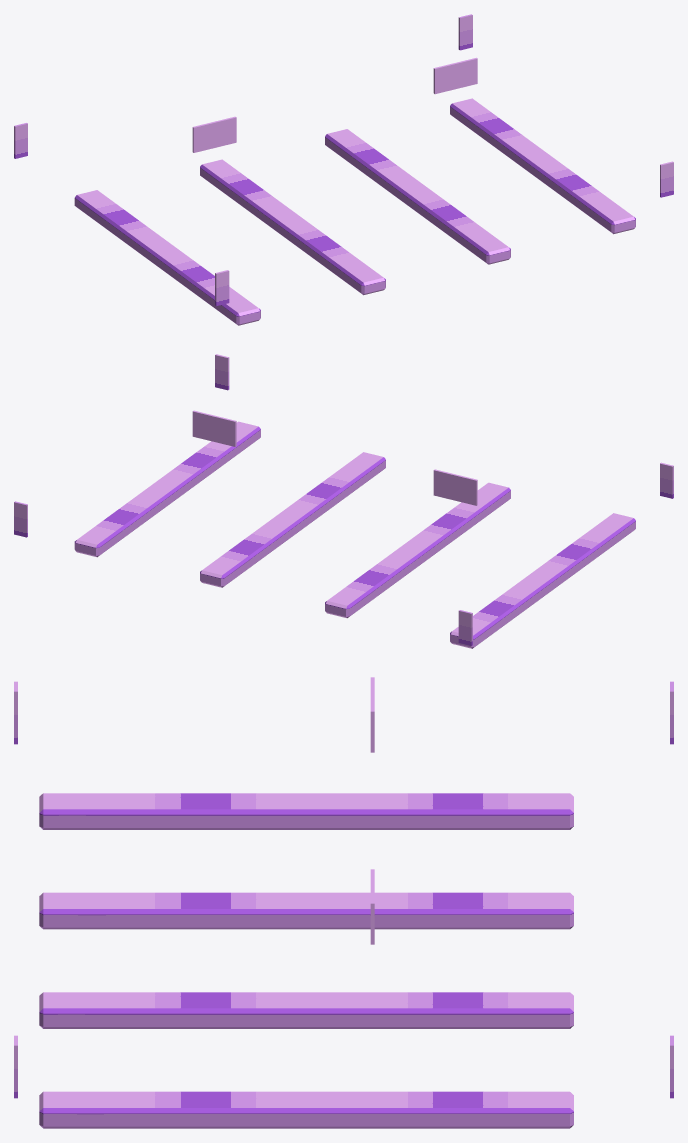
The model's file is tent_3_emission.obj.
3 renders of one model, top to bottom at view 1: azimuth 30°, elevation 25°; view 2: azimuth 150°, elevation 25°; view 3: azimuth 270°, elevation 25°, orthographic. The views are drawn at different scales.
Visible parts, largest first — view 1: model; view 2: model; view 3: model.
Boxes of the visible parts, x1,y1,x2,y2 form: model: [14, 14, 673, 325]; model: [14, 354, 673, 648]; model: [14, 677, 673, 1128].
Bounding box in the file's own units: 1.07 × 0.2487 × 0.8175.
